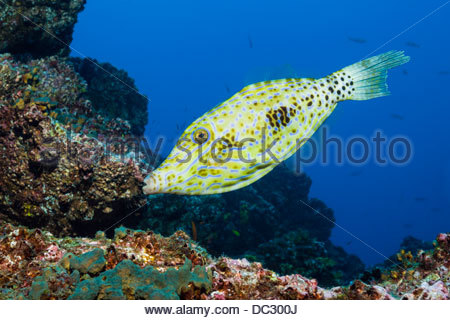Aluterus_scriptus: (133, 50, 411, 204)
